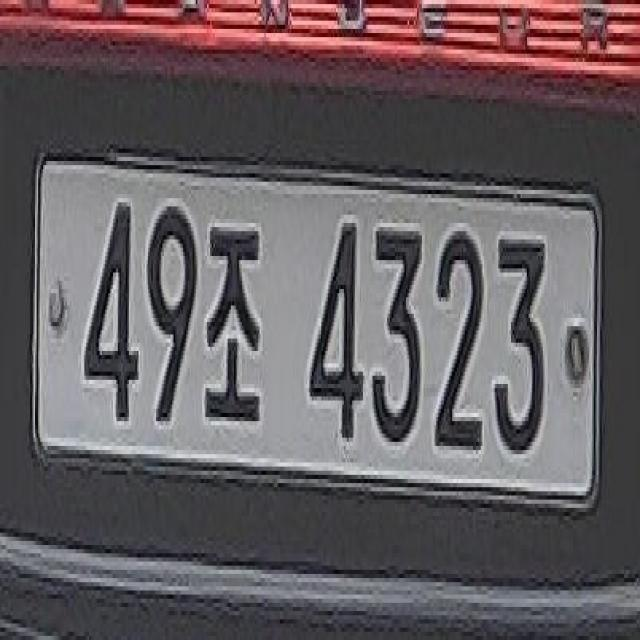2: (430, 218, 486, 464)
3: (493, 216, 548, 466), (371, 210, 423, 452)
4: (308, 208, 368, 456), (82, 190, 142, 434)
9: (142, 190, 200, 442)
jo: (202, 206, 266, 440)
license_plate: (16, 145, 612, 535)
